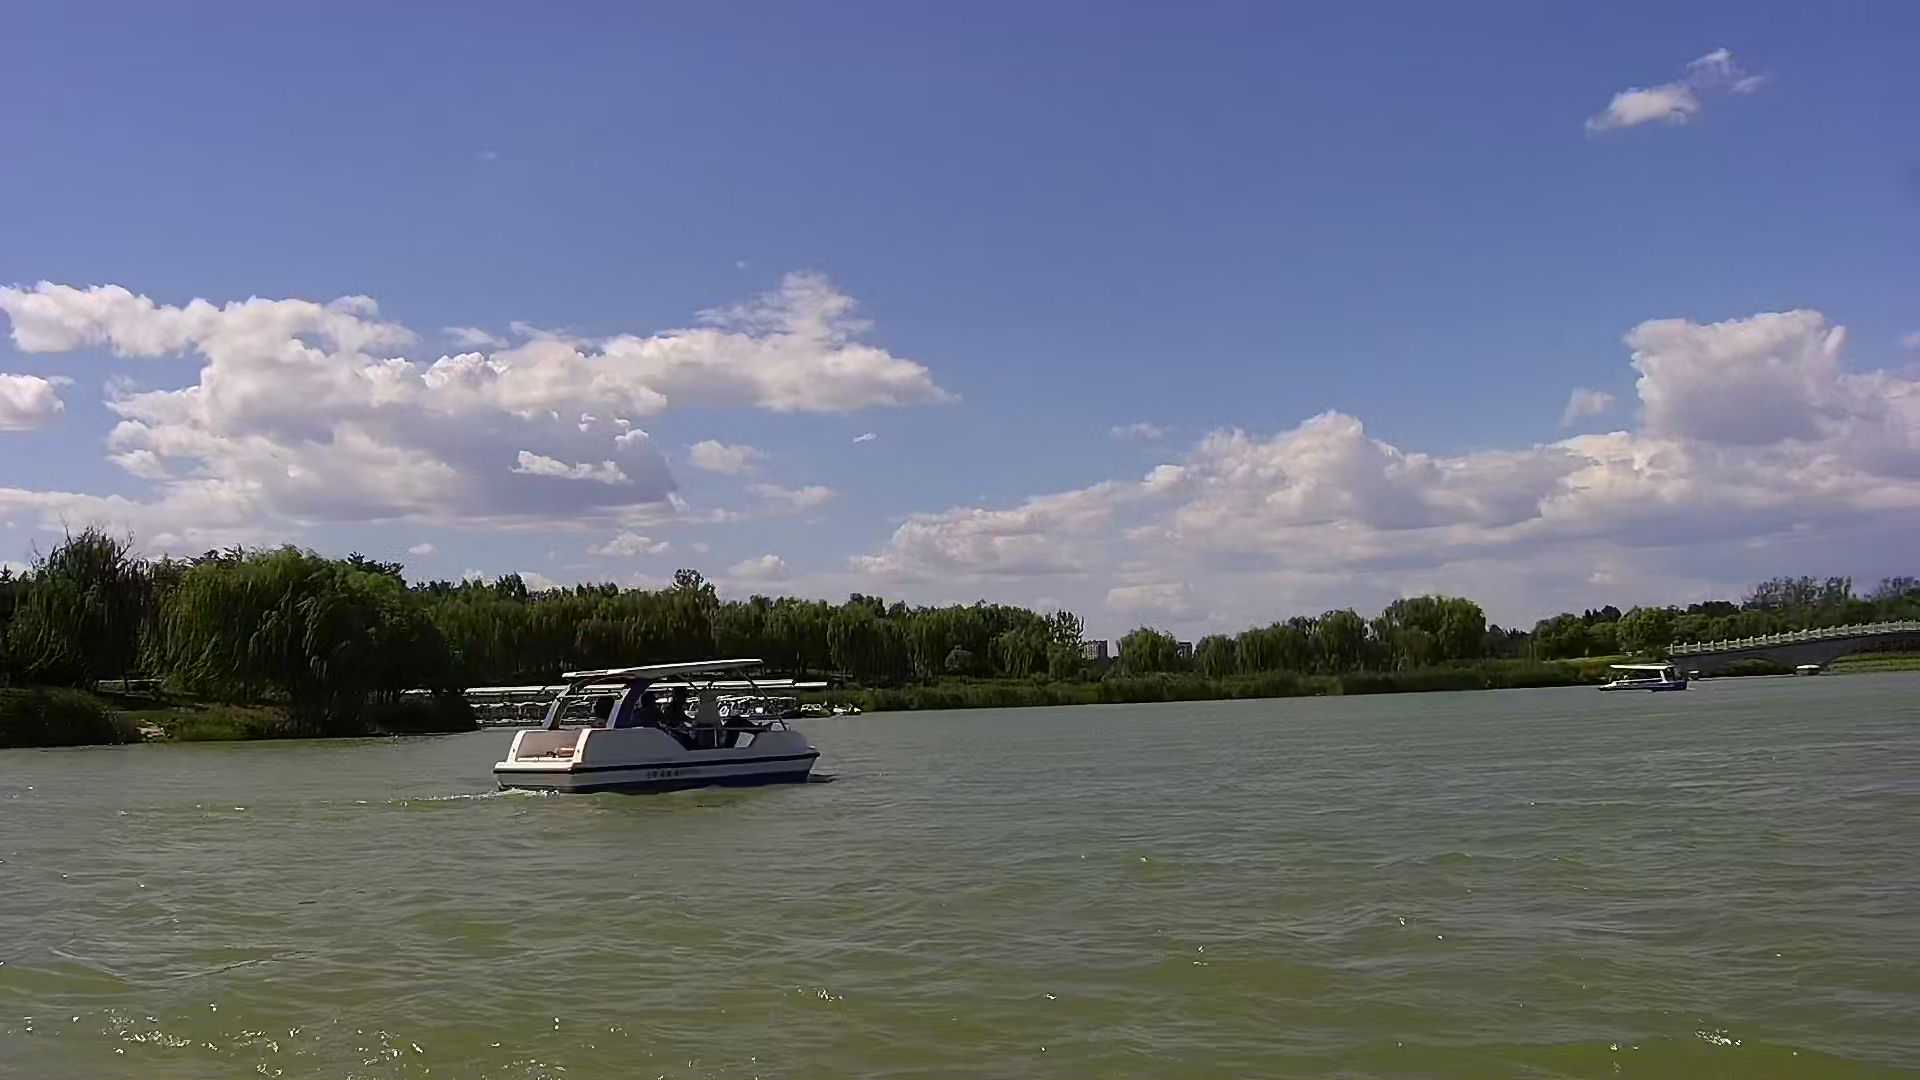boat: (488, 654, 833, 799), (1596, 655, 1706, 708)
